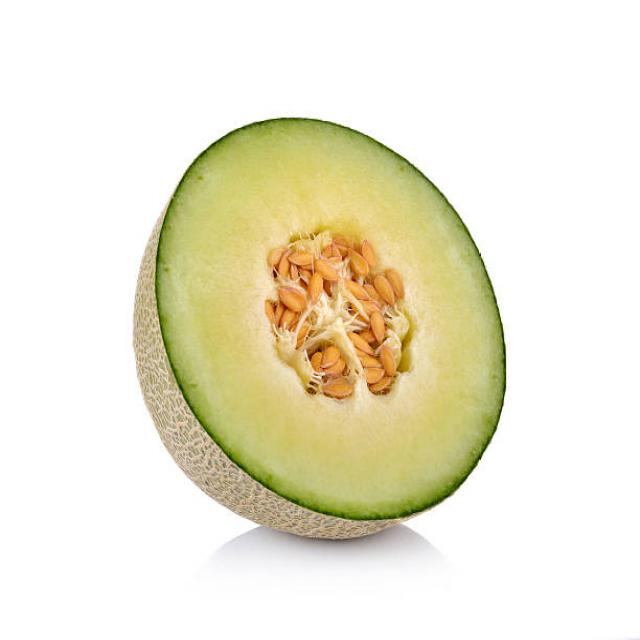Melon: (128, 111, 514, 545)
